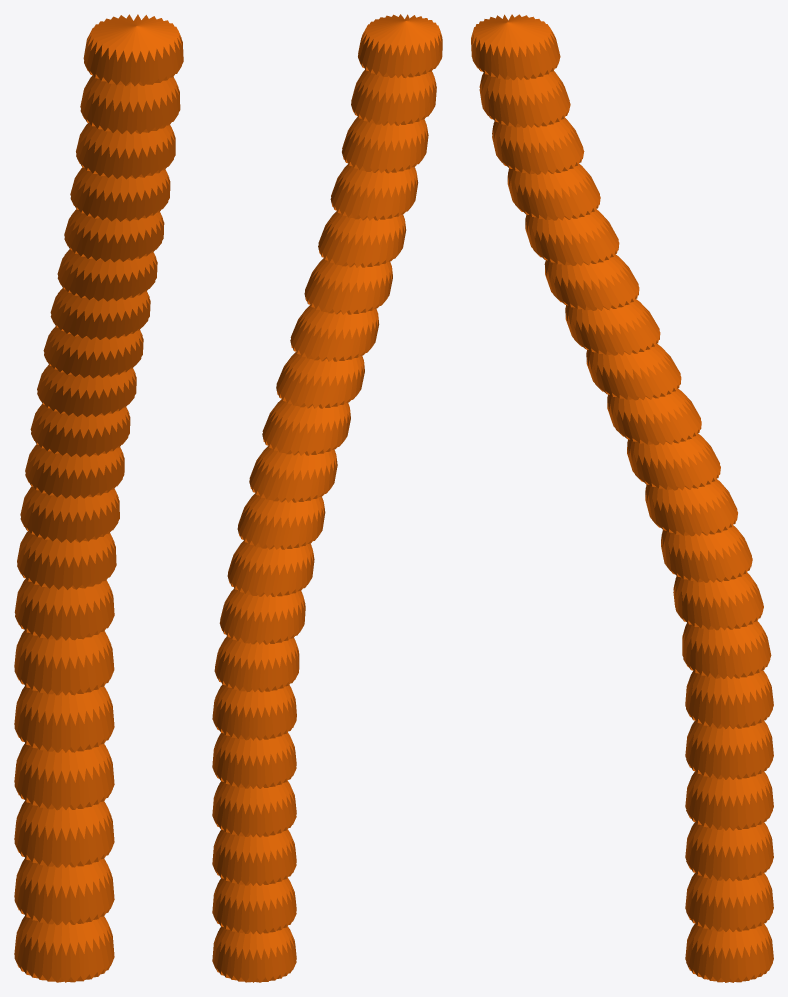
The model's file is stamm.fbx.
The picture shows the model from 3 angles, left to right: view 1: azimuth 30°, elevation 25°; view 2: azimuth 150°, elevation 25°; view 3: azimuth 270°, elevation 25°; orthographic projection. The views are drawn at different scales.
Visible parts, largest first — view 1: Cone; view 2: Cone; view 3: Cone.
Part boxes in pixels (x1=…): Cone: x1=14, y1=14, x2=183, y2=982; Cone: x1=212, y1=14, x2=442, y2=982; Cone: x1=471, y1=14, x2=773, y2=982.
Size of the model in its own units: 29.96 by 219 by 64.19.
